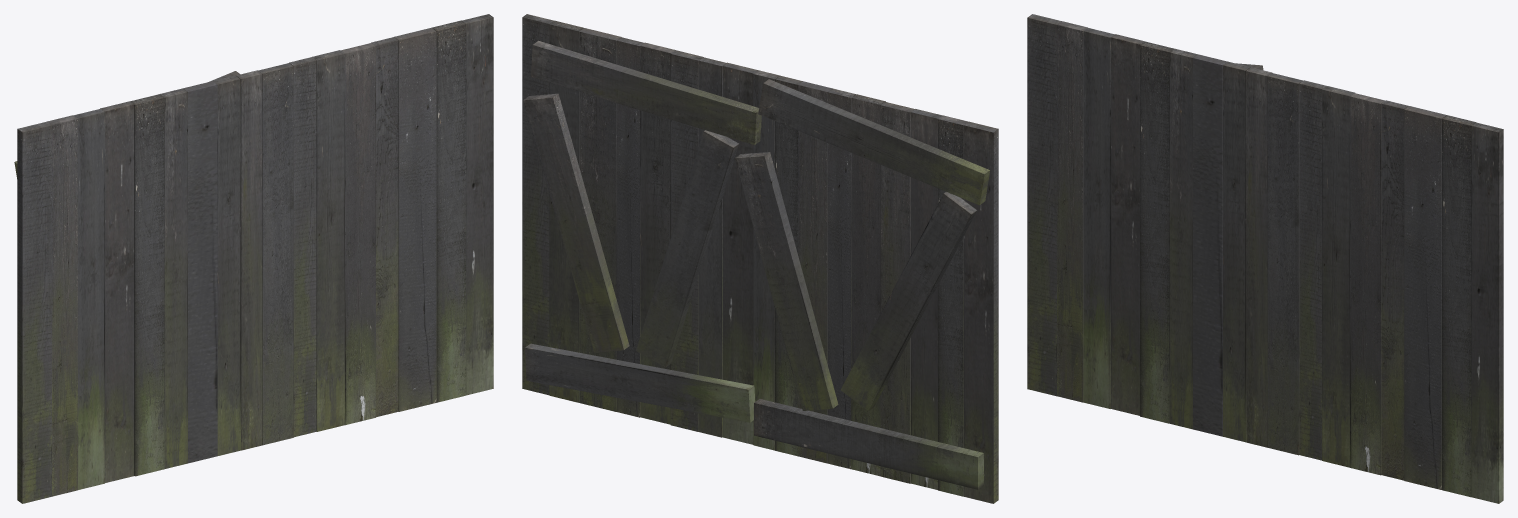
File: RottenSmallWoodenWall 4m.fbx
3 renders of one model, left to right at view 1: azimuth 30°, elevation 25°; view 2: azimuth 150°, elevation 25°; view 3: azimuth 330°, elevation 25°, orthographic.
Visible parts, largest first — view 1: RottenSmallWoodenWall_4m; view 2: RottenSmallWoodenWall_4m; view 3: RottenSmallWoodenWall_4m.
Part boxes in pixels (<box>): RottenSmallWoodenWall_4m: <box>14,14,493,503</box>; RottenSmallWoodenWall_4m: <box>522,14,998,503</box>; RottenSmallWoodenWall_4m: <box>1027,14,1503,503</box>.
Size of the model in its own units: 4 by 3.01 by 0.1628.
